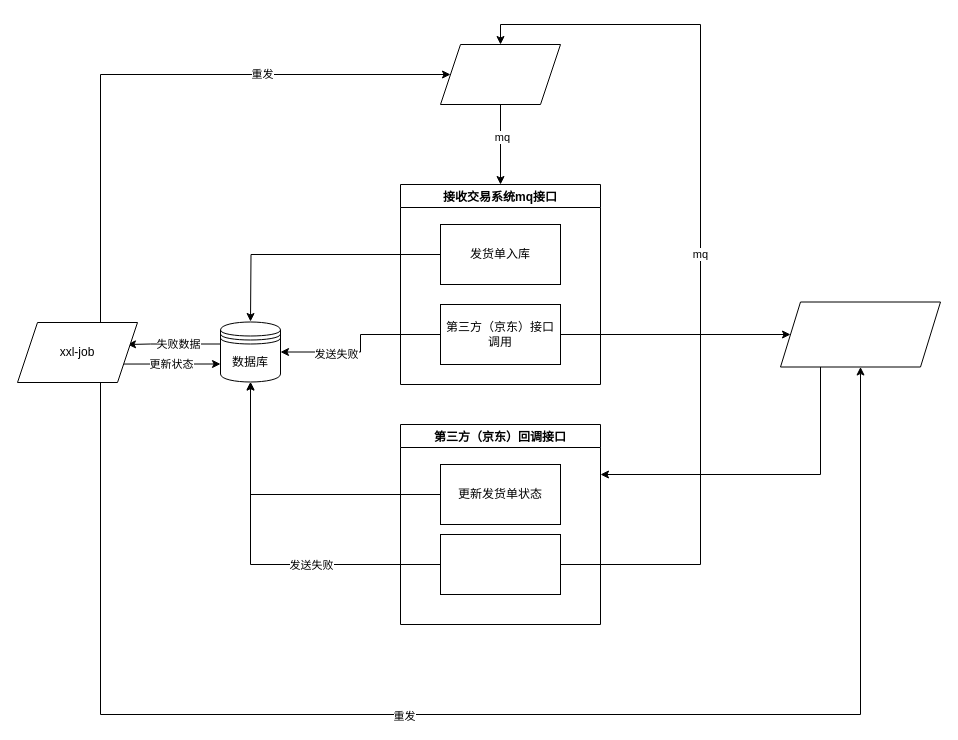
Some shapes in this 958 by 740 pixel diagram are drawn without their labels. The centre of each missing label's shape, as x and y in pixels:
交易系统: the point at 500,74
发送mq到交易系统: the point at 500,564
第三方（京东）接口: the point at 860,334
